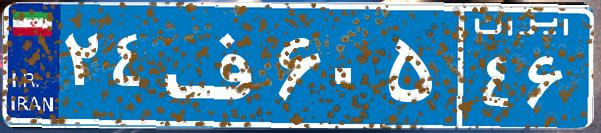0: (330, 28, 385, 110)
2: (57, 26, 110, 107)
4: (475, 38, 525, 113), (110, 28, 158, 105)
5: (385, 28, 445, 110)
6: (273, 28, 330, 110), (525, 38, 570, 115)
ف: (158, 15, 273, 115)
